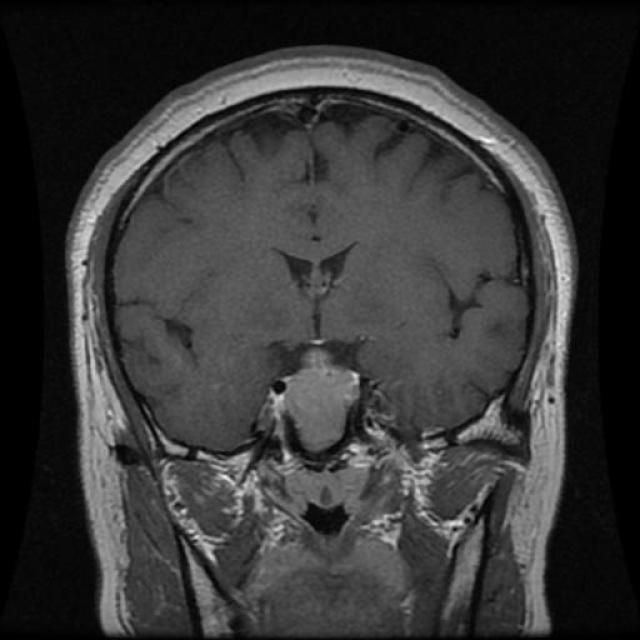pituitary: (266, 335, 368, 453)
